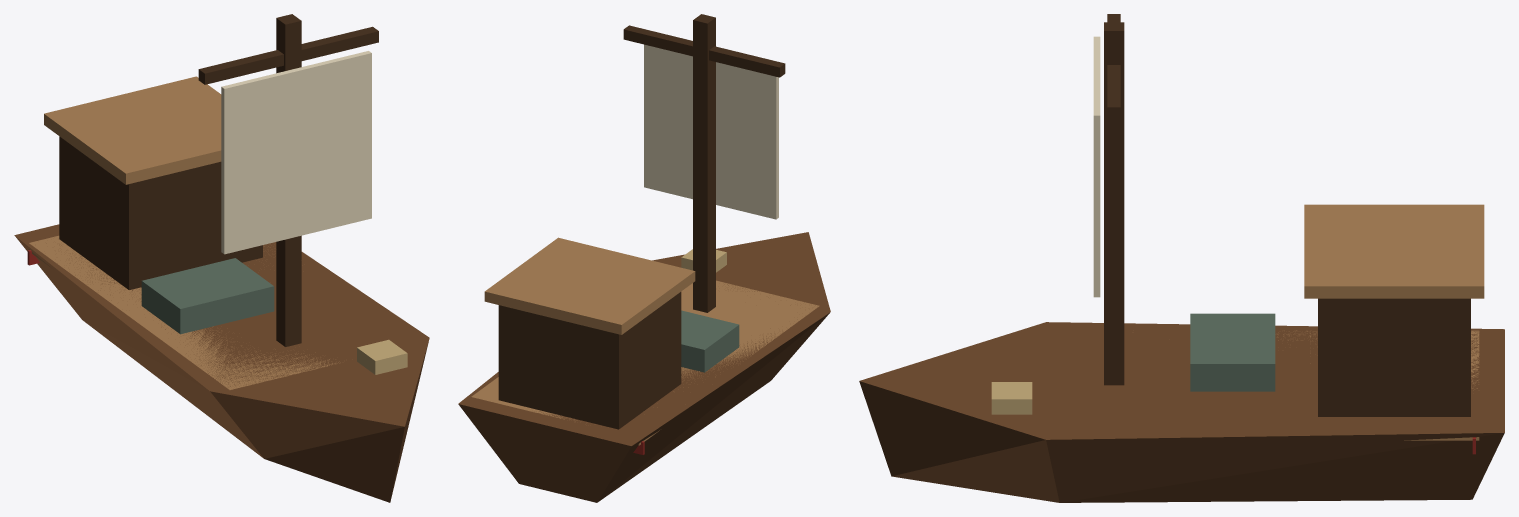
Rendered from med-pesqueiro.gltf.
3 views of the same model, side by side, from view 1: azimuth 30°, elevation 25°; view 2: azimuth 150°, elevation 25°; view 3: azimuth 270°, elevation 25° (orthographic). The views are drawn at different scales.
Parts seen in each view (by area): view 1: med-pesqueiro; view 2: med-pesqueiro; view 3: med-pesqueiro.
Part boxes in pixels (x1,y1,x2,y2): med-pesqueiro: (14,14,429,502); med-pesqueiro: (458,14,830,502); med-pesqueiro: (859,14,1504,502).
Size of the model in its own units: 1.64 by 2.92 by 3.8.
